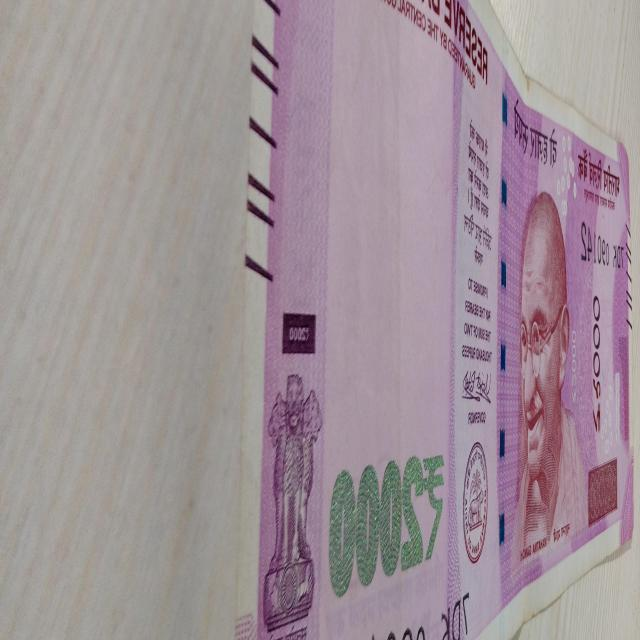Currency: (259, 3, 640, 591)
